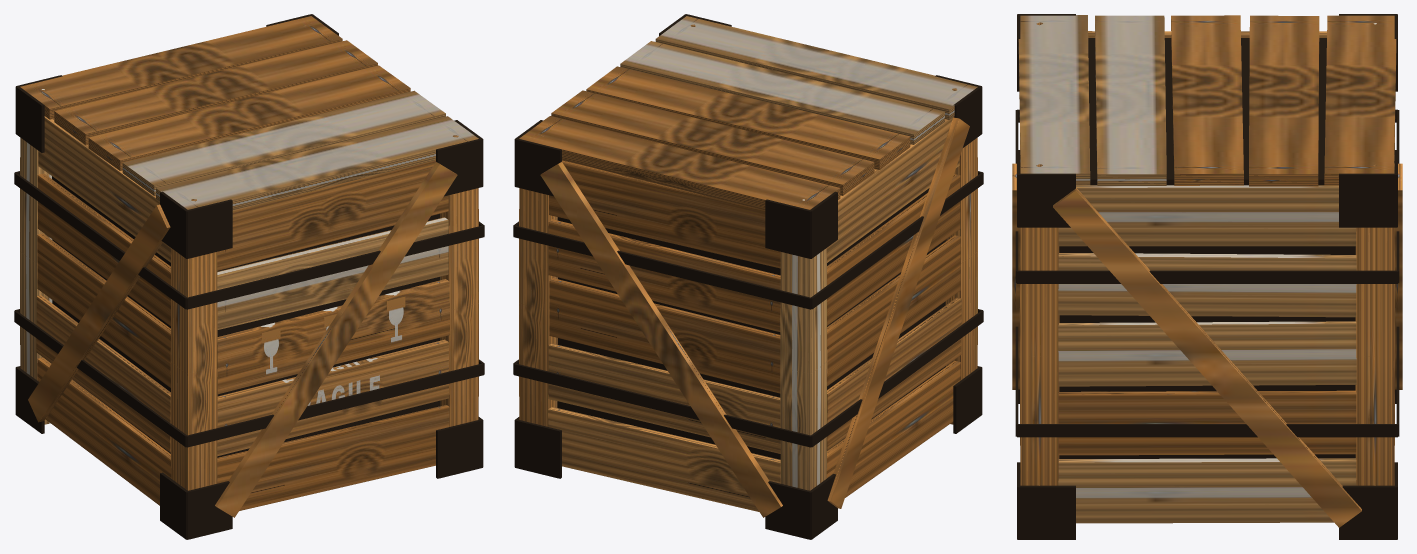
The model's file is prop_soft_crate_b-DBU4dNZZ.glb.
3 views of the same model, side by side, from view 1: azimuth 30°, elevation 25°; view 2: azimuth 150°, elevation 25°; view 3: azimuth 270°, elevation 25° (orthographic). The views are drawn at different scales.
Visible parts, largest first — view 1: prop_soft_crate_b_body; view 2: prop_soft_crate_b_body; view 3: prop_soft_crate_b_body.
Boxes of the visible parts, bbox=[...] form: prop_soft_crate_b_body: bbox=[14, 14, 484, 539]; prop_soft_crate_b_body: bbox=[513, 14, 983, 539]; prop_soft_crate_b_body: bbox=[1012, 14, 1402, 539].
Bounding box in the file's own units: 0.872 × 0.9005 × 0.872.
Materials: 1 (1 with a texture image).
